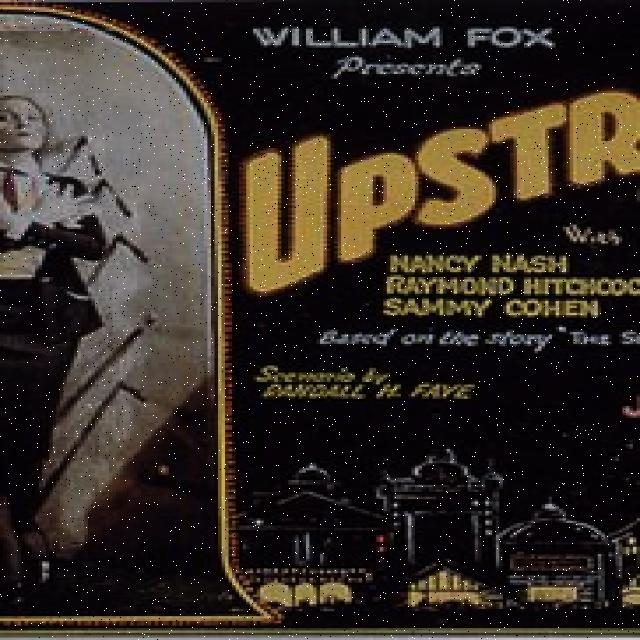movie-judul: (246, 91, 640, 282)
picture: (3, 85, 228, 617), (245, 451, 632, 622)
